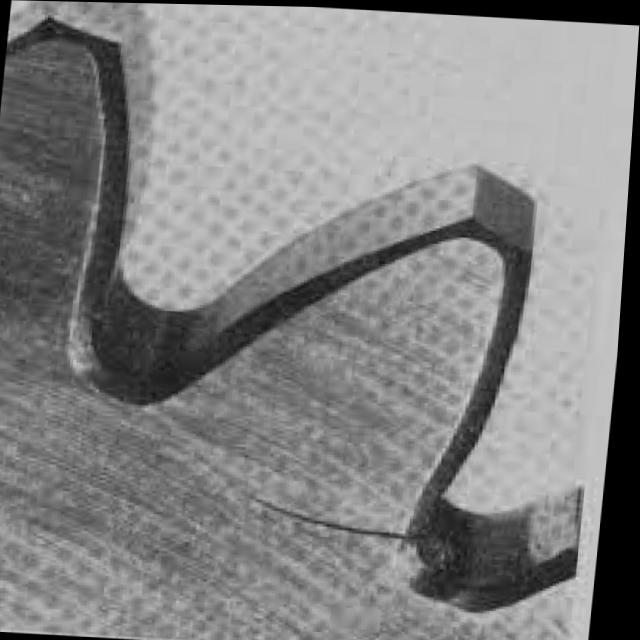Fault-Exist: (129, 73, 577, 631)
